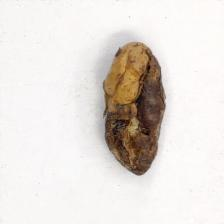NG: (105, 41, 164, 175)
